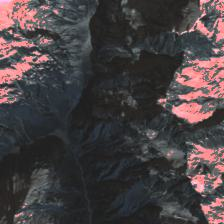landslides: (83, 37, 123, 67), (64, 60, 80, 69), (5, 135, 16, 145)
